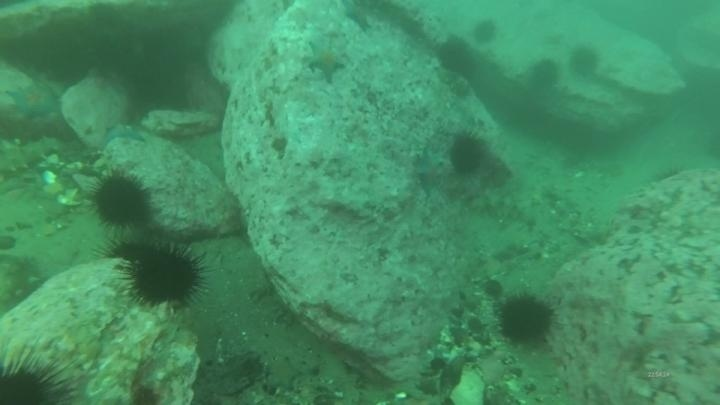echinus: (120, 243, 208, 310), (0, 342, 77, 404), (88, 170, 155, 232), (496, 292, 557, 347), (447, 130, 488, 177), (435, 37, 478, 79), (103, 236, 158, 265), (567, 44, 602, 79), (527, 57, 562, 92), (470, 18, 500, 47), (480, 277, 506, 301)
holothurian: (0, 134, 64, 180)
starfish: (5, 82, 59, 121), (304, 38, 348, 82), (412, 146, 449, 196), (263, 355, 302, 392), (101, 121, 147, 146), (342, 4, 376, 33)
